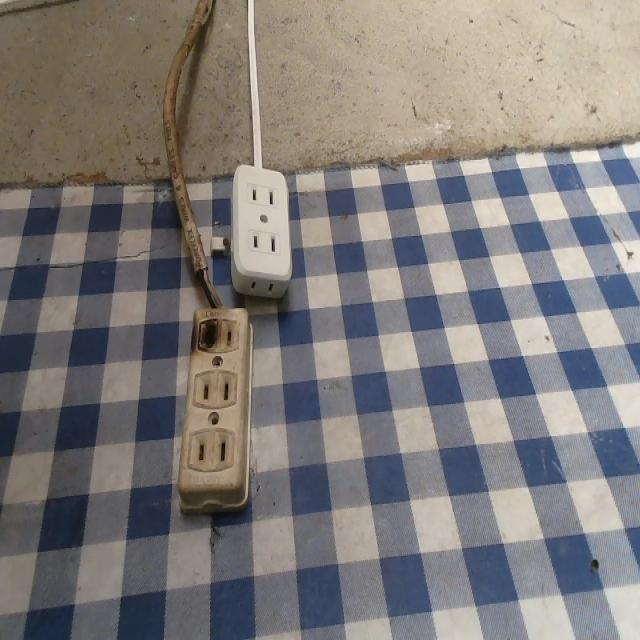-: (189, 312, 225, 356)
